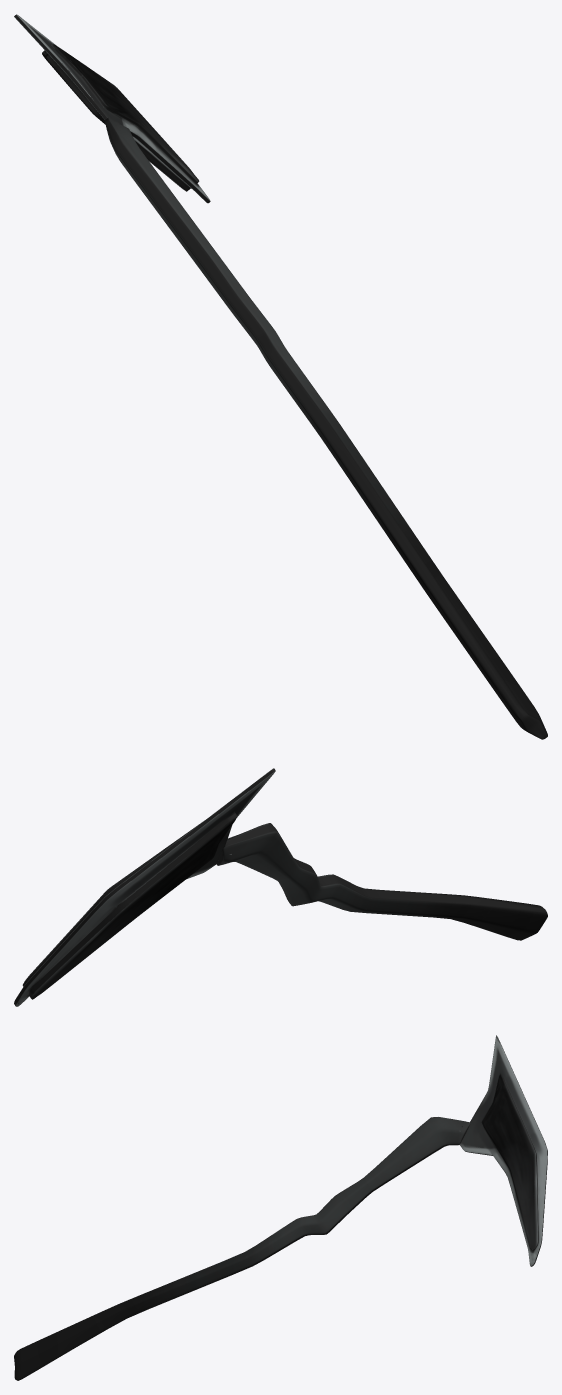
Rendered from Foice.fbx.
3 views of the same model, one above another, from view 1: azimuth 30°, elevation 25°; view 2: azimuth 150°, elevation 25°; view 3: azimuth 270°, elevation 25° (orthographic). The views are drawn at different scales.
Visible parts, largest first — view 1: Cube.003; view 2: Cube.003; view 3: Cube.003.
Boxes of the visible parts, x1=… form: Cube.003: x1=14, y1=14, x2=547, y2=739; Cube.003: x1=14, y1=768, x2=547, y2=1006; Cube.003: x1=14, y1=1035, x2=547, y2=1380.
Size of the model in its own units: 521 by 1069 by 1718.
1 material, 1 textured.
